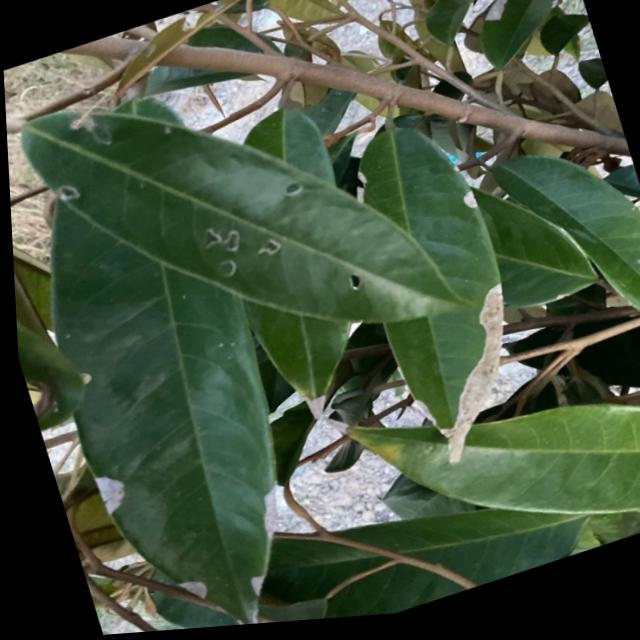Leaf Blight: (354, 134, 500, 468), (491, 163, 640, 317)
